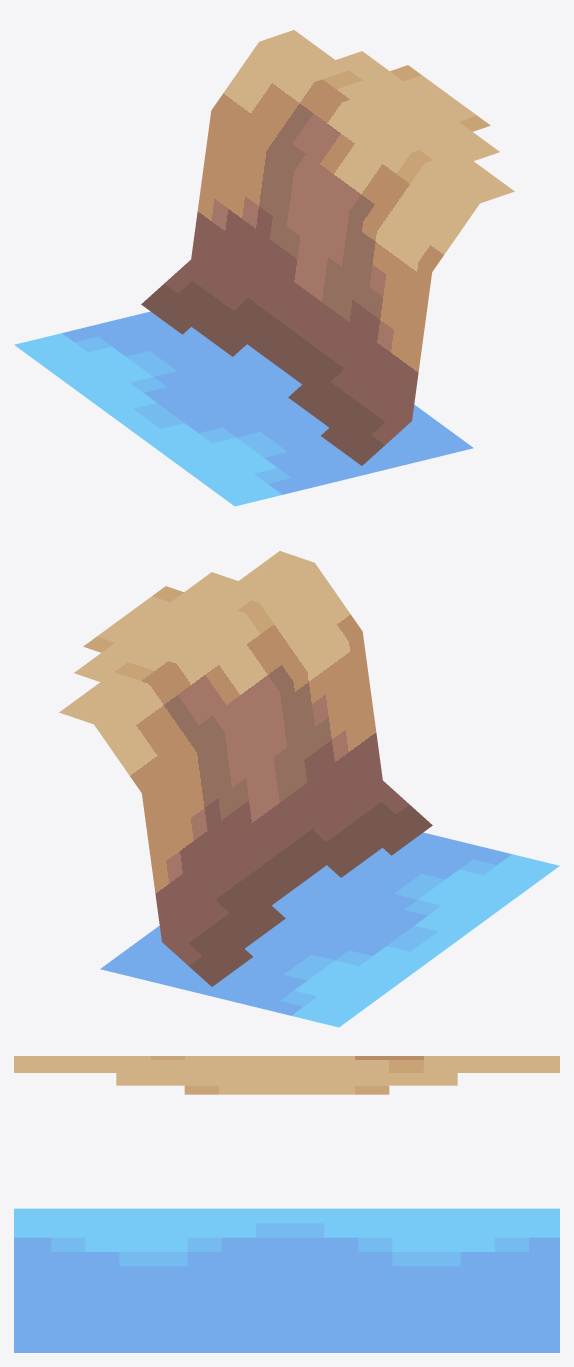
3 views of the same model, one above another, from view 1: azimuth 30°, elevation 25°; view 2: azimuth 150°, elevation 25°; view 3: azimuth 270°, elevation 25° (orthographic). The views are drawn at different scales.
Size of the model in its own units: 0.8496 by 0.627 by 1.
2 materials, 2 textured.
